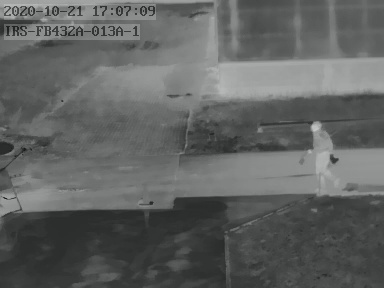person: (297, 118, 339, 196)
